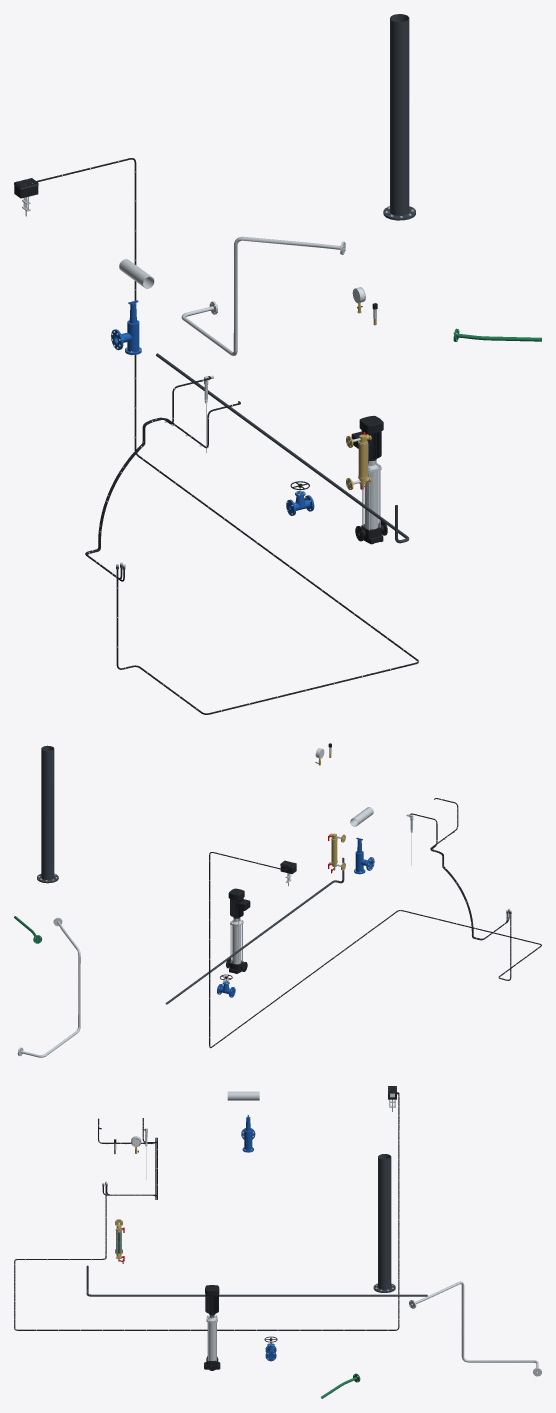
3 views of the same model, one above another, from view 1: azimuth 30°, elevation 25°; view 2: azimuth 150°, elevation 25°; view 3: azimuth 270°, elevation 25° (orthographic). The views are drawn at different scales.
Visible parts, largest first — view 1: bdv_vent / dark, mod_direct_drive_cable / black, trap_gap_to_bdv / steel, tds_common / dark, safety_1 / blue, pump_1 CAD solid 15; view 2: bdv_vent / dark, mod_direct_drive_cable / black, trap_gap_to_bdv / steel, tds_common / dark, pump_1 CAD solid 15, safety_1 / blue; view 3: bdv_vent / dark, mod_direct_drive_cable / black, tds_common / dark, trap_gap_to_bdv / steel, pump_1 CAD solid 15.
Part boxes in pixels (x1=…): bdv_vent / dark: x1=383, y1=14, x2=415, y2=220; mod_direct_drive_cable / black: x1=36, y1=158, x2=418, y2=714; trap_gap_to_bdv / steel: x1=181, y1=236, x2=345, y2=355; tds_common / dark: x1=156, y1=353, x2=409, y2=543; safety_1 / blue: x1=111, y1=300, x2=141, y2=354; pump_1 CAD solid 15: x1=351, y1=415, x2=383, y2=459; bdv_vent / dark: x1=37, y1=745, x2=58, y2=883; mod_direct_drive_cable / black: x1=209, y1=852, x2=541, y2=1048; trap_gap_to_bdv / steel: x1=17, y1=917, x2=80, y2=1057; tds_common / dark: x1=165, y1=857, x2=344, y2=1004; pump_1 CAD solid 15: x1=228, y1=888, x2=250, y2=917; safety_1 / blue: x1=354, y1=837, x2=374, y2=874; bdv_vent / dark: x1=373, y1=1154, x2=395, y2=1292; mod_direct_drive_cable / black: x1=14, y1=1093, x2=399, y2=1330; tds_common / dark: x1=86, y1=1265, x2=427, y2=1296; trap_gap_to_bdv / steel: x1=409, y1=1281, x2=541, y2=1376; pump_1 CAD solid 15: x1=205, y1=1285, x2=219, y2=1314.
Size of the model in its own units: 5.83 by 3.69 by 6.74.
